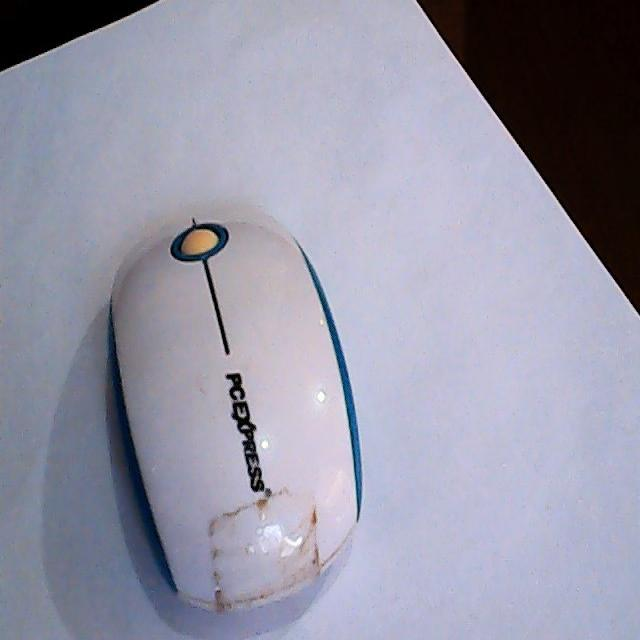mouse: (106, 202, 365, 618)
